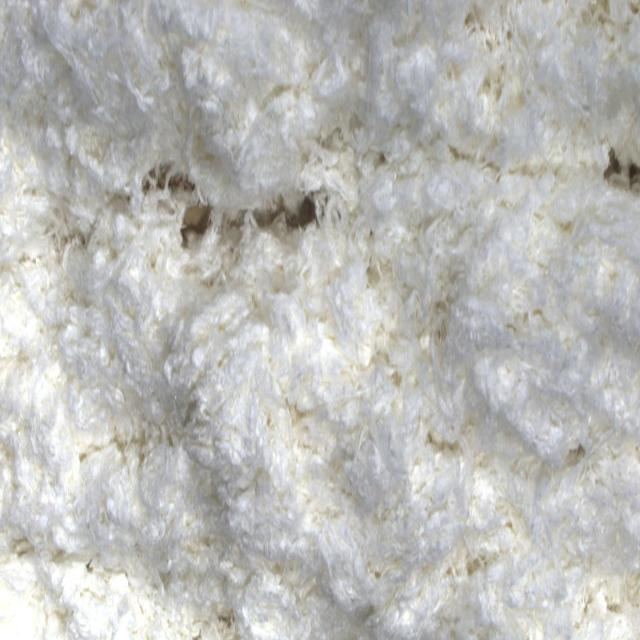dust: (145, 169, 221, 260), (255, 200, 346, 240), (606, 146, 640, 207)
